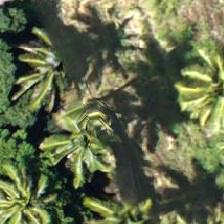Kelapa_Sawit: (38, 88, 128, 178), (8, 13, 98, 103), (0, 155, 71, 223), (177, 35, 223, 126), (80, 178, 171, 223)
